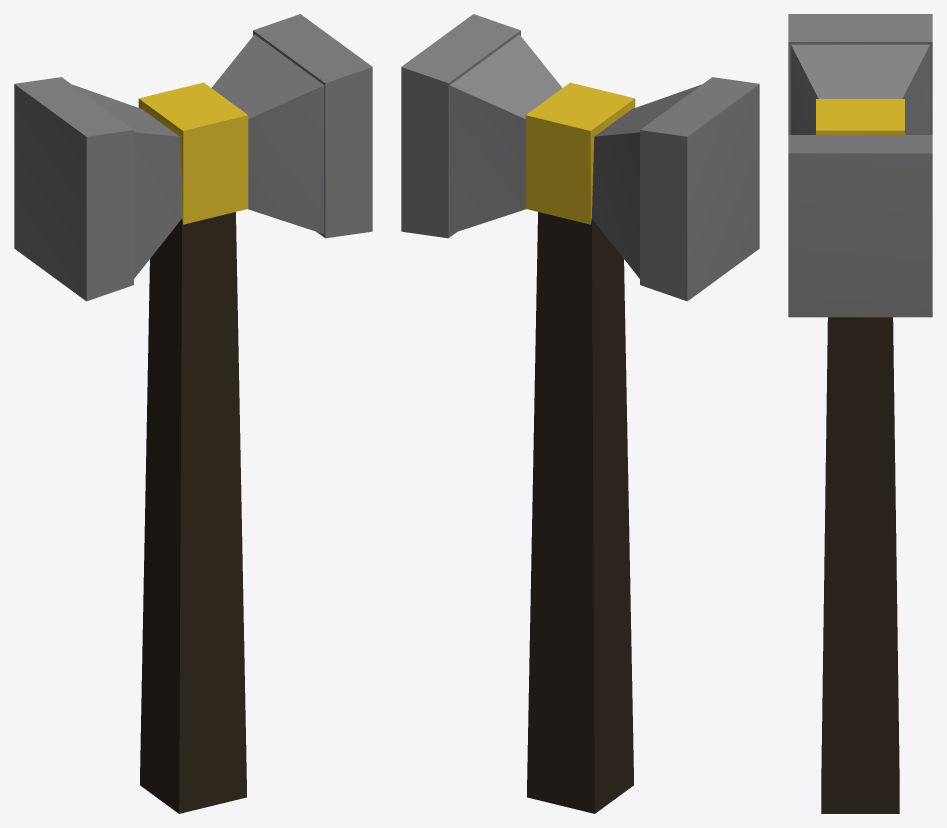
The model's file is cekic.fbx.
The picture shows the model from 3 angles, left to right: view 1: azimuth 30°, elevation 25°; view 2: azimuth 150°, elevation 25°; view 3: azimuth 270°, elevation 25°; orthographic projection.
Visible parts, largest first — view 1: cekic; view 2: cekic; view 3: cekic.
Part boxes in pixels (x1,y1,x2,y2): cekic: [14, 14, 372, 813]; cekic: [401, 14, 759, 813]; cekic: [788, 14, 932, 813].
Size of the model in its own units: 1146 by 2735 by 501.
